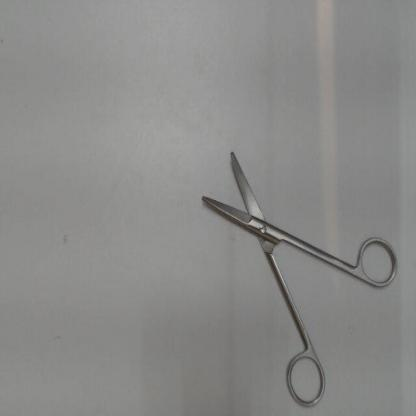Curved Mayo Scissors: (196, 140, 406, 414)
